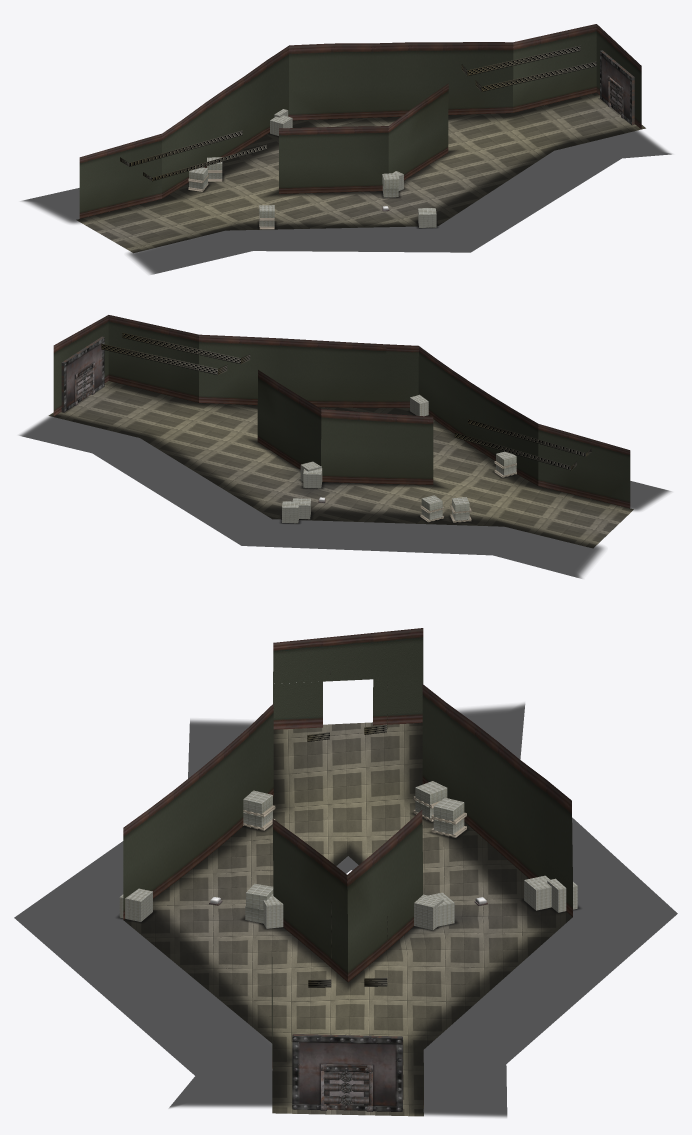
Rendered from room_10.glb.
3 views of the same model, one above another, from view 1: azimuth 30°, elevation 25°; view 2: azimuth 150°, elevation 25°; view 3: azimuth 270°, elevation 25° (orthographic). The views are drawn at different scales.
Visible parts, largest first — view 1: floor, groundShadow_1, W14, W10, W2, W16, W13, W1, W15, pocket, groundShadow_2, LongLights_Lights1 (+3 smaller); view 2: floor, groundShadow_1, W9, W3, W8, W12, W6, W4, W15, pocket, LongLights_Lights1, LongLights_Lights2 (+3 smaller); view 3: groundShadow_1, floor, W10, W8, W4, W1, W11, pocket, PaperBigStacks3 (×3), wall, wall31, groundShadow_2.
Part boxes in pixels (x1,y1,x2,y2): floor: (77, 93, 645, 252); groundShadow_1: (22, 92, 671, 274); W14: (289, 42, 513, 120); W10: (162, 45, 289, 198); W2: (279, 126, 388, 193); W16: (513, 24, 596, 112); W13: (79, 133, 162, 218); W1: (388, 83, 448, 180); W15: (596, 24, 641, 129); pocket: (600, 50, 634, 125); groundShadow_2: (265, 150, 458, 196); LongLights_Lights1: (461, 45, 580, 75); floor: (48, 381, 633, 547); groundShadow_1: (19, 382, 671, 578); W9: (199, 334, 418, 407); W3: (321, 409, 433, 484); W8: (418, 346, 538, 485); W12: (538, 424, 630, 508); W6: (108, 315, 198, 402); W4: (257, 370, 321, 469); W15: (53, 315, 108, 416); pocket: (61, 336, 104, 412); LongLights_Lights1: (101, 343, 227, 374); LongLights_Lights2: (122, 332, 250, 364); groundShadow_1: (14, 703, 677, 1117); floor: (124, 722, 572, 1116); W10: (422, 684, 572, 916); W8: (123, 704, 273, 919); W4: (347, 810, 422, 982); W1: (272, 819, 347, 981); W11: (273, 628, 423, 683); pocket: (292, 1034, 402, 1111); PaperBigStacks3 (×3): (119, 875, 551, 930); wall: (373, 677, 423, 725); wall31: (273, 681, 322, 729); groundShadow_2: (273, 844, 417, 990).
Bounding box in the file's own units: 305 × 38.27 × 197.
Materials: 24 (23 with a texture image).
